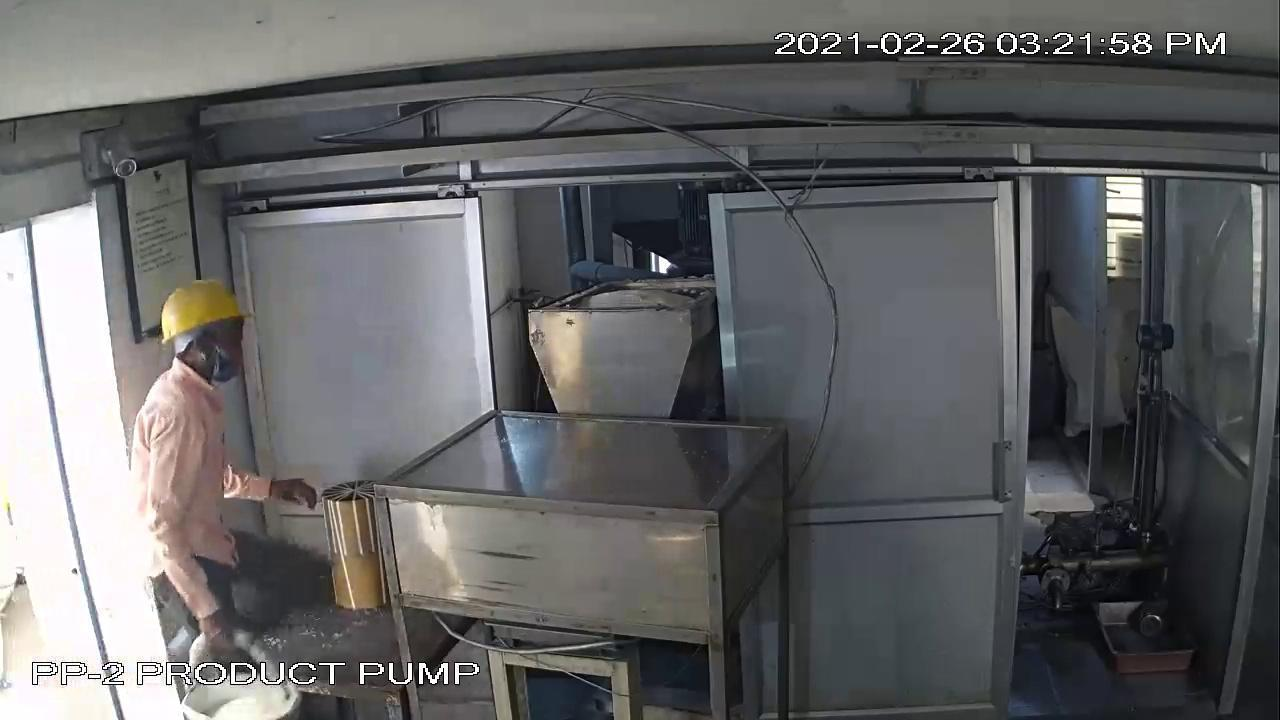helmet: (155, 267, 255, 346)
